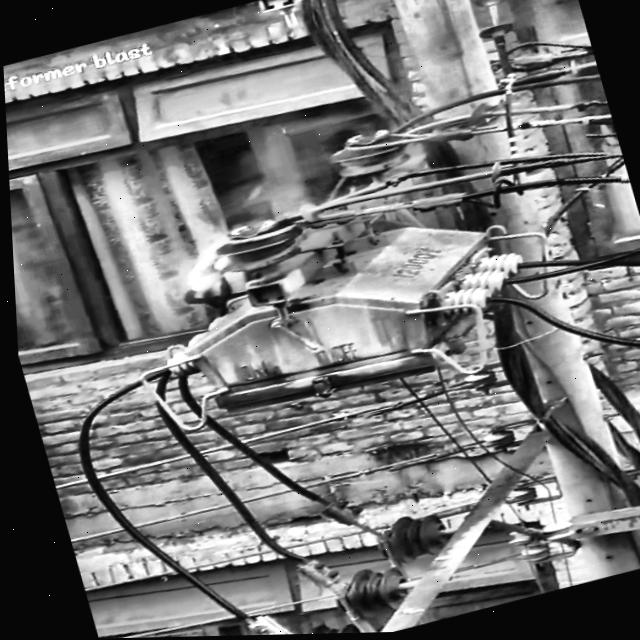Fire: (154, 224, 250, 299)
